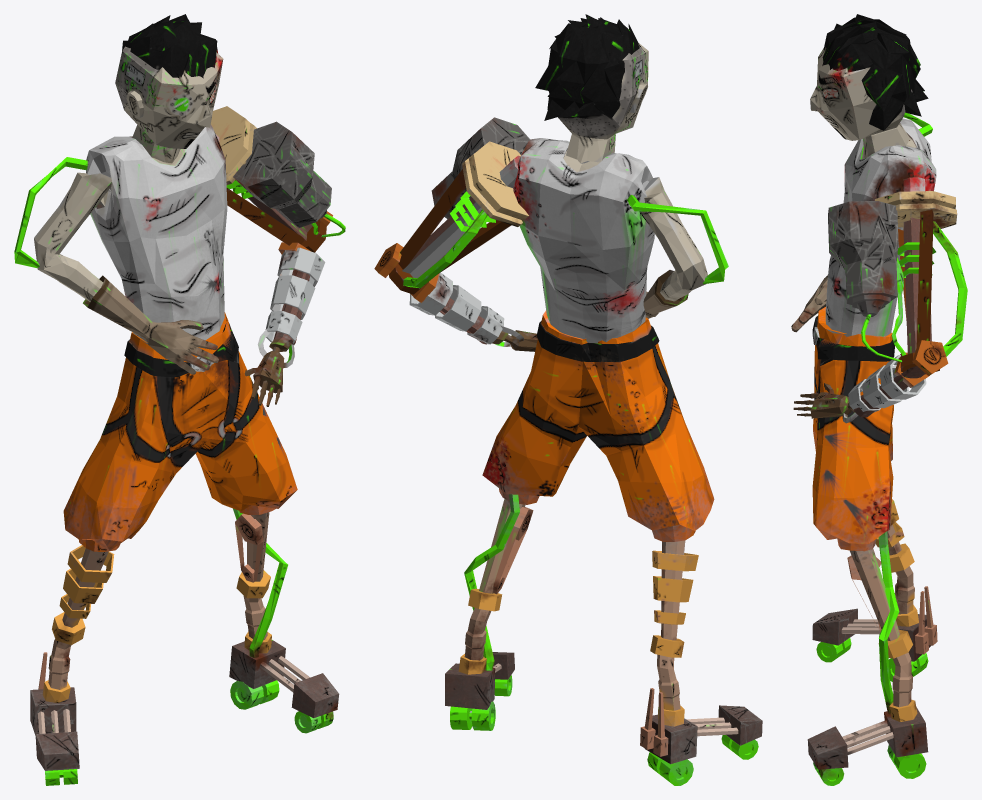
File: CyborgFINALAnimation_000057.obj
The picture shows the model from 3 angles, left to right: view 1: azimuth 30°, elevation 25°; view 2: azimuth 150°, elevation 25°; view 3: azimuth 270°, elevation 25°; orthographic projection. The views are drawn at different scales.
Parts seen in each view (by area): view 1: CyborgMesh_Cube.002; view 2: CyborgMesh_Cube.002; view 3: CyborgMesh_Cube.002.
Boxes of the visible parts, x1,y1,x2,y2 form: CyborgMesh_Cube.002: [14, 14, 345, 785]; CyborgMesh_Cube.002: [374, 14, 762, 785]; CyborgMesh_Cube.002: [791, 14, 967, 785].
Bounding box in the file's own units: 4.65 × 9.59 × 2.18.
